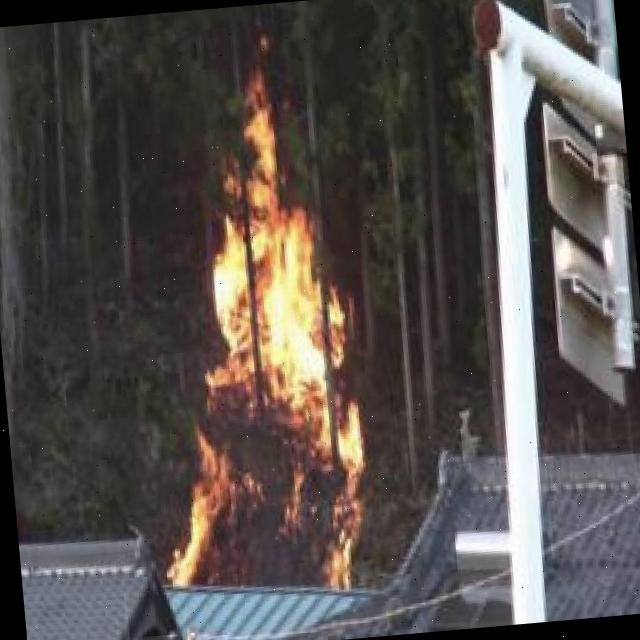fire: (142, 76, 372, 602)
